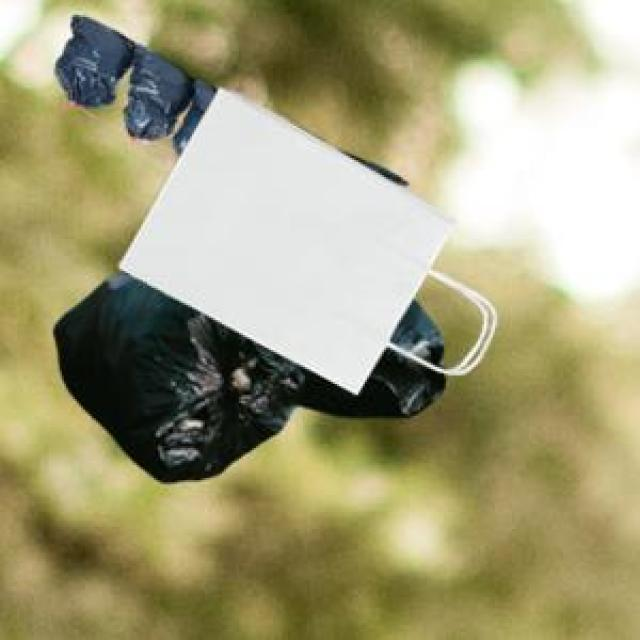miscellaneous trash: (49, 269, 442, 478), (51, 13, 316, 171)
paper: (115, 83, 493, 390)
